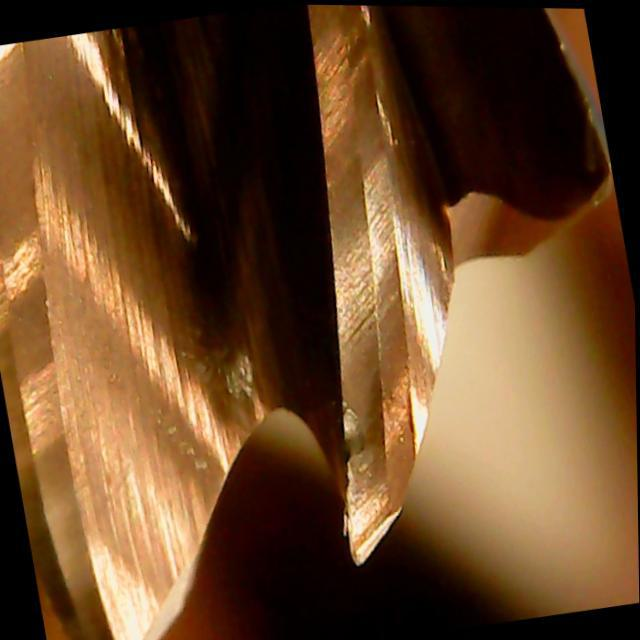Tool-wear-class-1: (283, 221, 492, 577)
